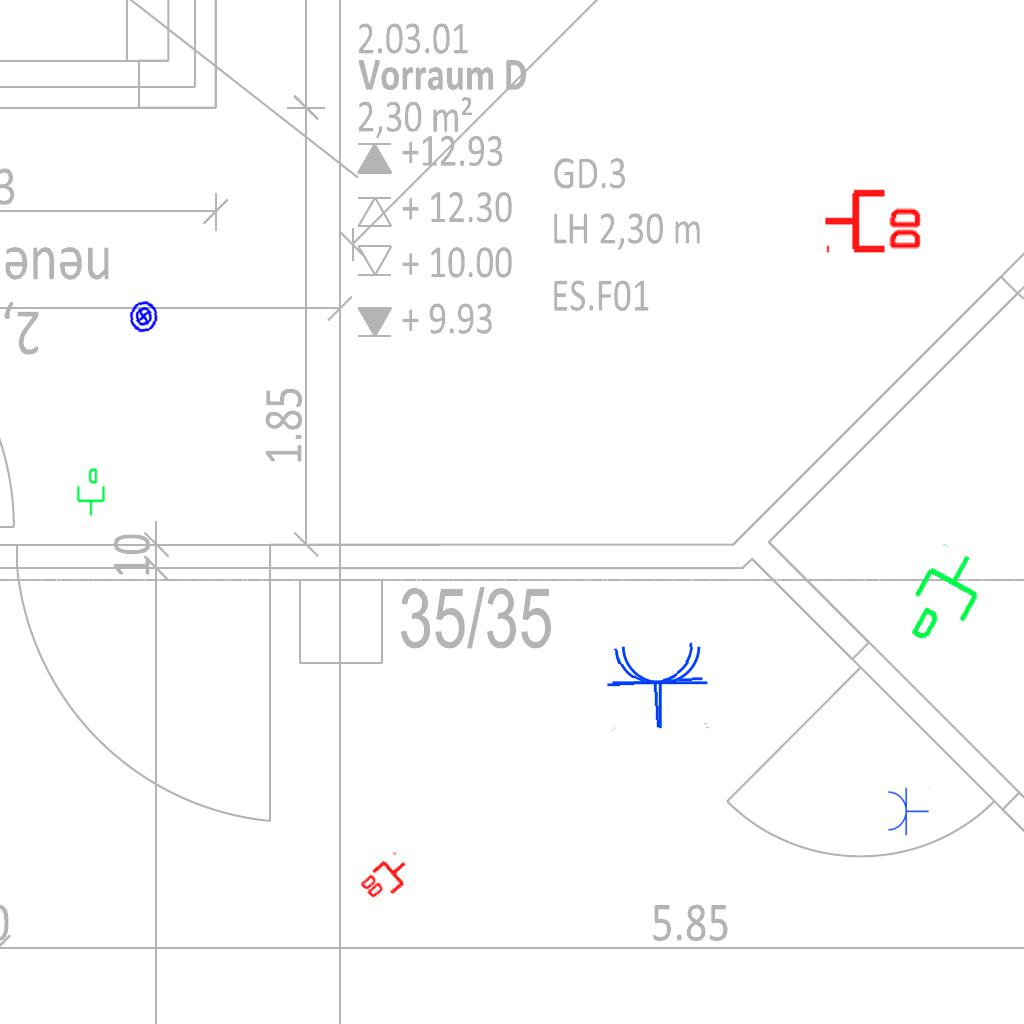Datenanschluss_einfach: (892, 538, 1001, 660), (73, 467, 107, 517)
Datenanschluss_zweifach: (822, 185, 925, 254), (356, 849, 418, 910)
Schukosteckdose_einfach: (603, 637, 709, 732), (611, 642, 711, 729), (886, 786, 929, 836)
Taster_beleuchtet: (125, 298, 162, 335)
